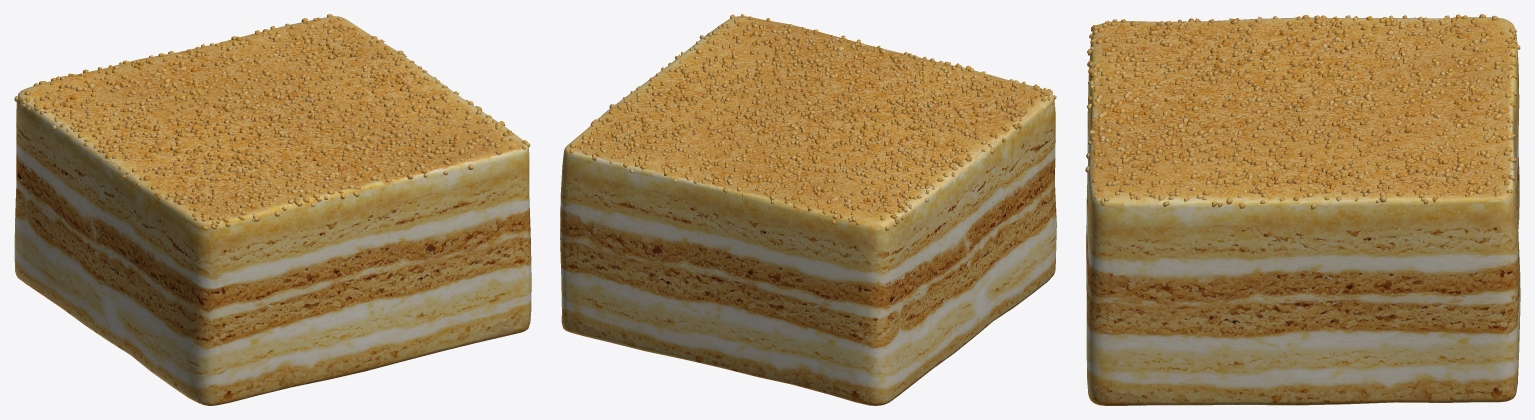
File: milhojas.glb
3 views of the same model, side by side, from view 1: azimuth 30°, elevation 25°; view 2: azimuth 150°, elevation 25°; view 3: azimuth 270°, elevation 25° (orthographic). The views are drawn at different scales.
Visible parts, largest first — view 1: honey_cake_object_4, honey_cake_crumbs_object_3; view 2: honey_cake_object_4, honey_cake_crumbs_object_3; view 3: honey_cake_object_4, honey_cake_crumbs_object_3.
Part boxes in pixels (bbox=[...]): honey_cake_object_4: bbox=[14, 16, 531, 405]; honey_cake_crumbs_object_3: bbox=[14, 14, 530, 230]; honey_cake_object_4: bbox=[560, 16, 1056, 405]; honey_cake_crumbs_object_3: bbox=[569, 14, 1056, 230]; honey_cake_object_4: bbox=[1086, 17, 1520, 405]; honey_cake_crumbs_object_3: bbox=[1085, 14, 1520, 209].
Bounding box in the file's own units: 0.101 × 0.0536 × 0.0986.
Materials: 1 (1 with a texture image).
